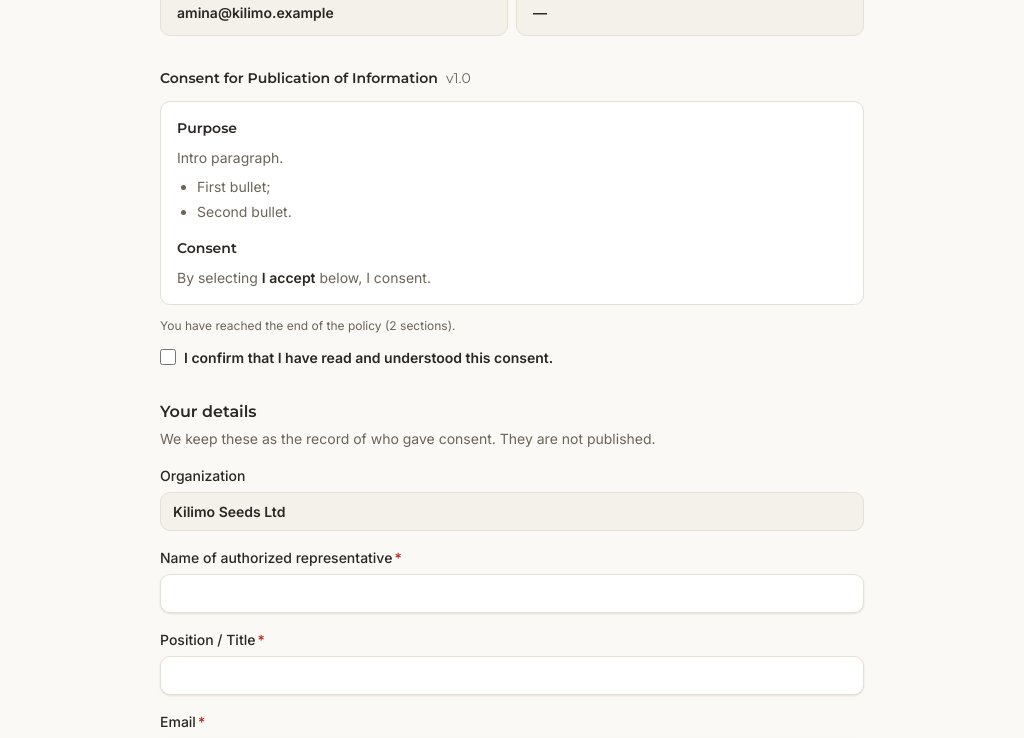
Test: Accept (FR-9, FR-10) › a network failure keeps the entered values and shows a retryable alert
(page scrolled)
Click the checkbox at (168, 356), box [160, 348, 176, 364]
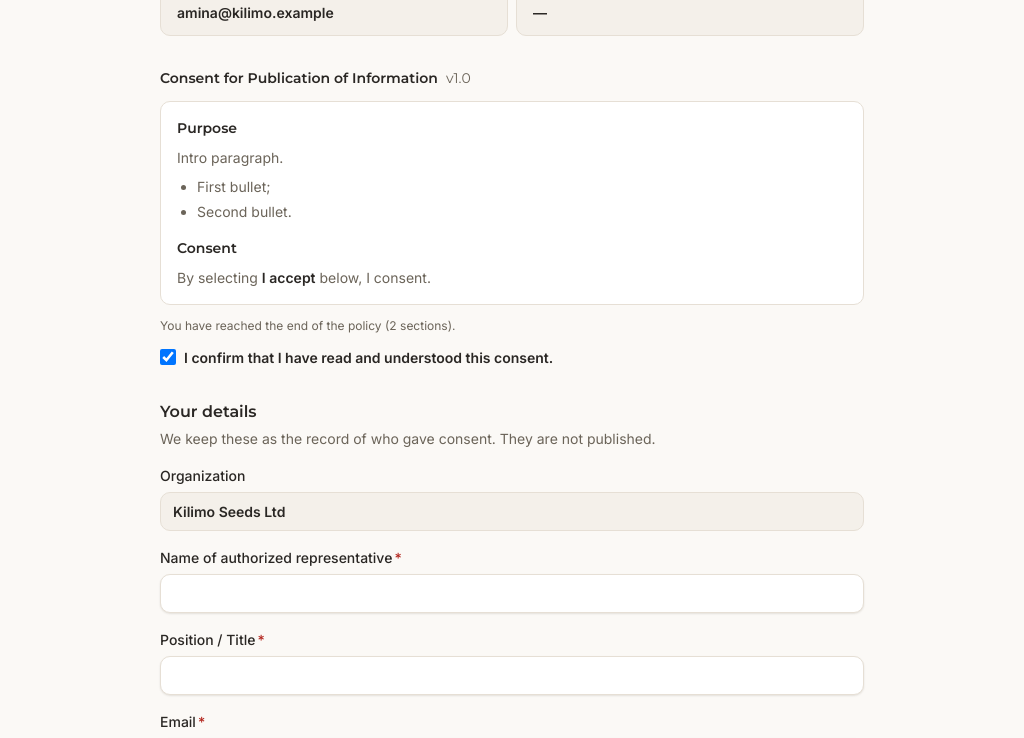
Type "Amina Juma" into the field labelled "Name of authorized representative*" at (512, 593), box [160, 574, 864, 612]
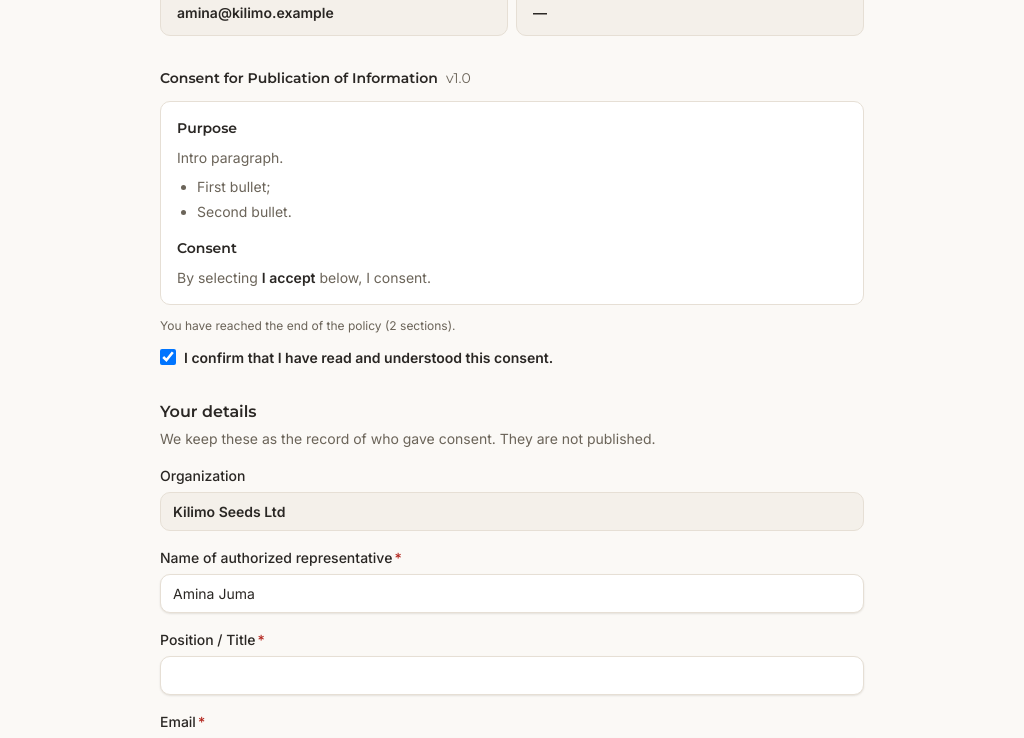
Type "Director" into the field labelled "Position / Title*" at (512, 675), box [160, 656, 864, 694]
(page scrolled)
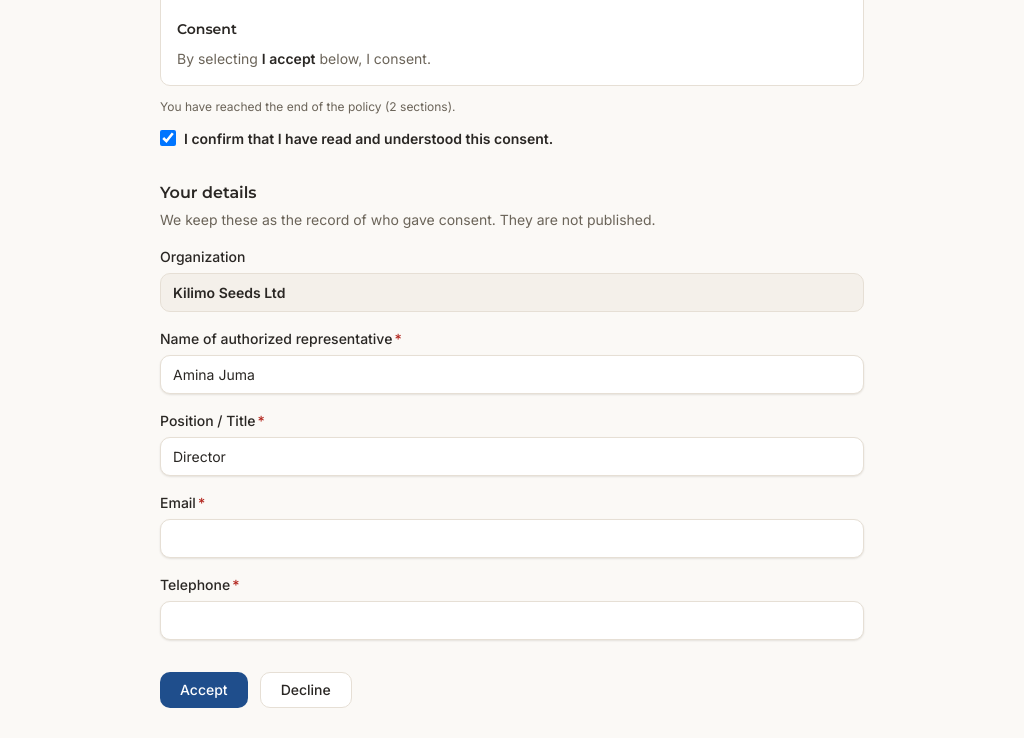
Type "amina@kilimo.example" into the field labelled "Email*" at (512, 538), box [160, 518, 864, 558]
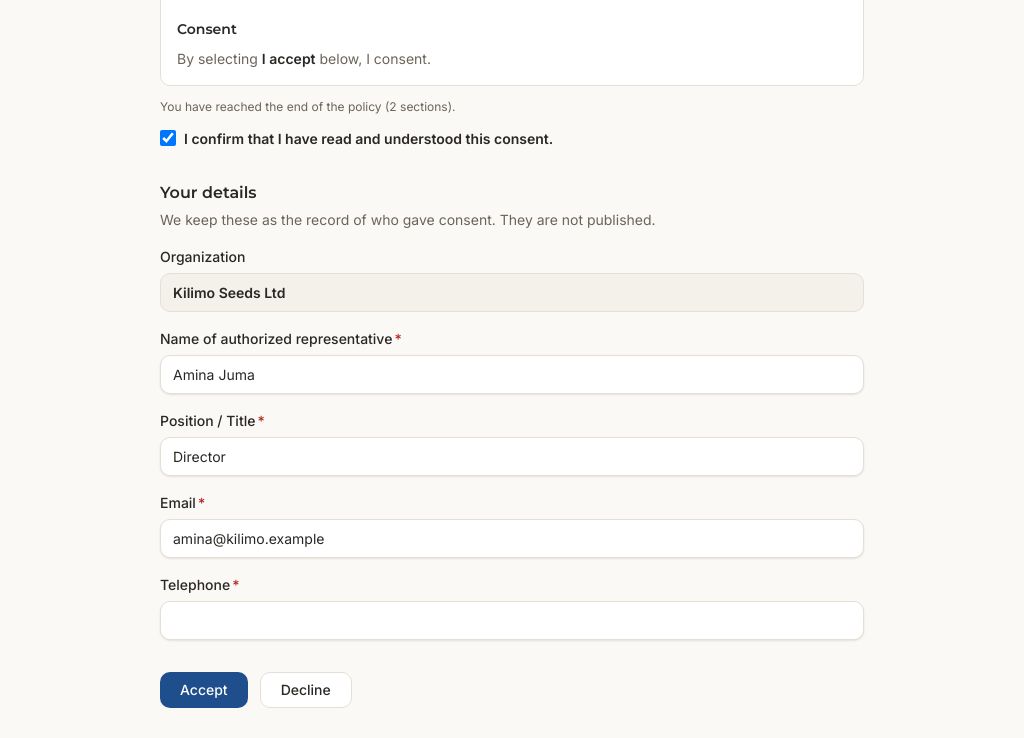
Type "+255700111222" into the field labelled "Telephone*" at (512, 620), box [160, 600, 864, 640]
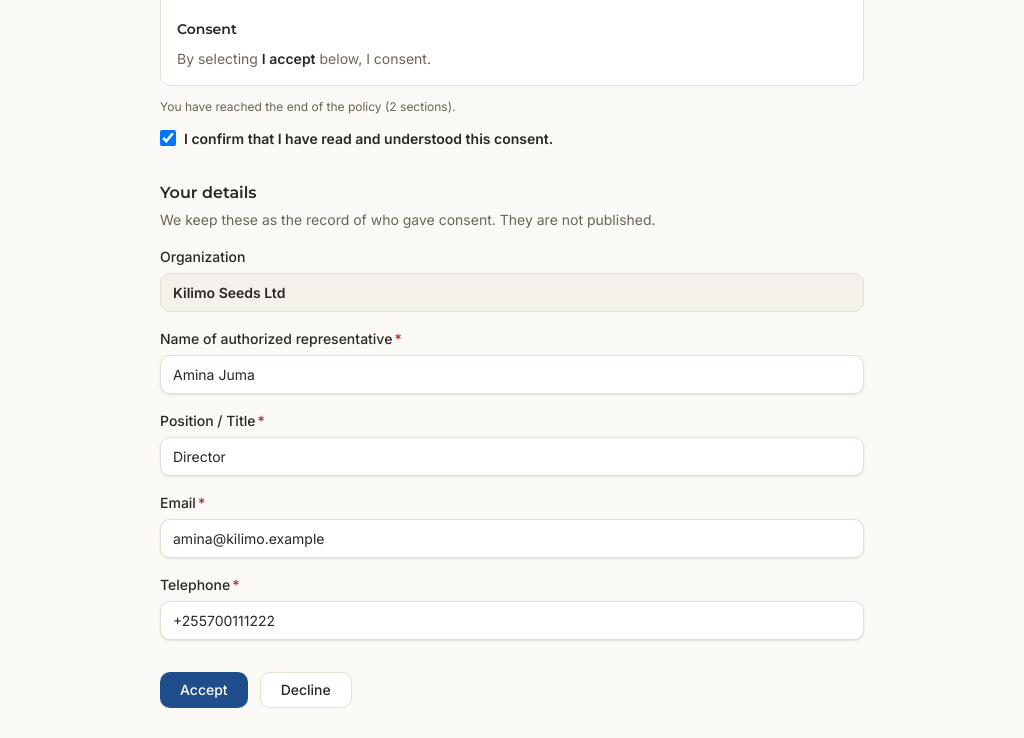
Click the button "Accept" at (204, 690), box [160, 672, 248, 708]
(page scrolled)
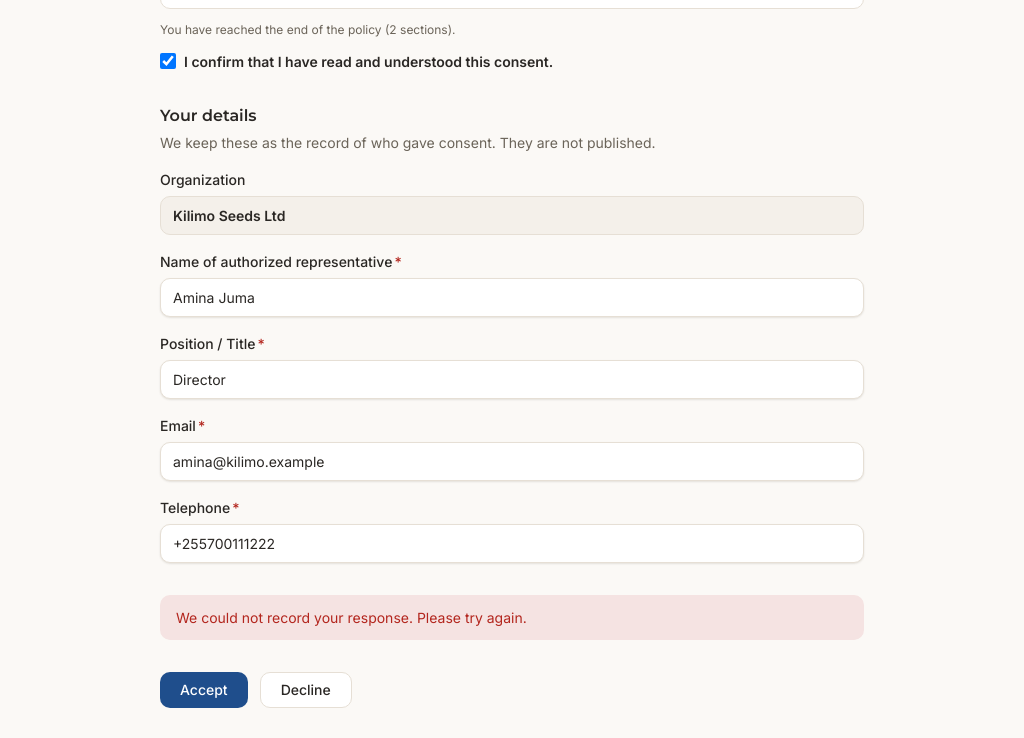
Result: the message shows "We could not record your response" at [176, 608, 527, 626]
